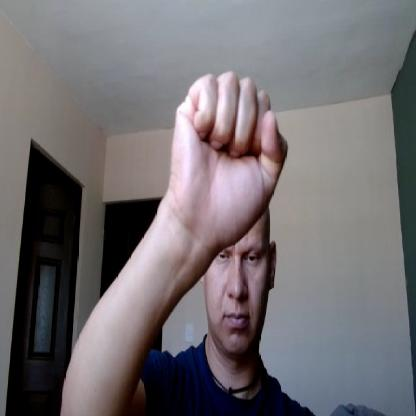S: (170, 68, 289, 255)
